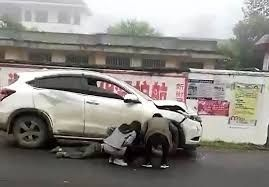falling: (47, 136, 116, 163)
